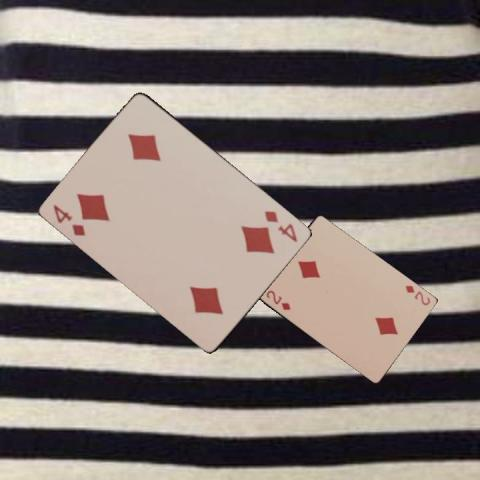2d: (263, 287, 292, 312), (402, 282, 431, 306)
4d: (262, 207, 299, 244), (50, 202, 87, 237)
